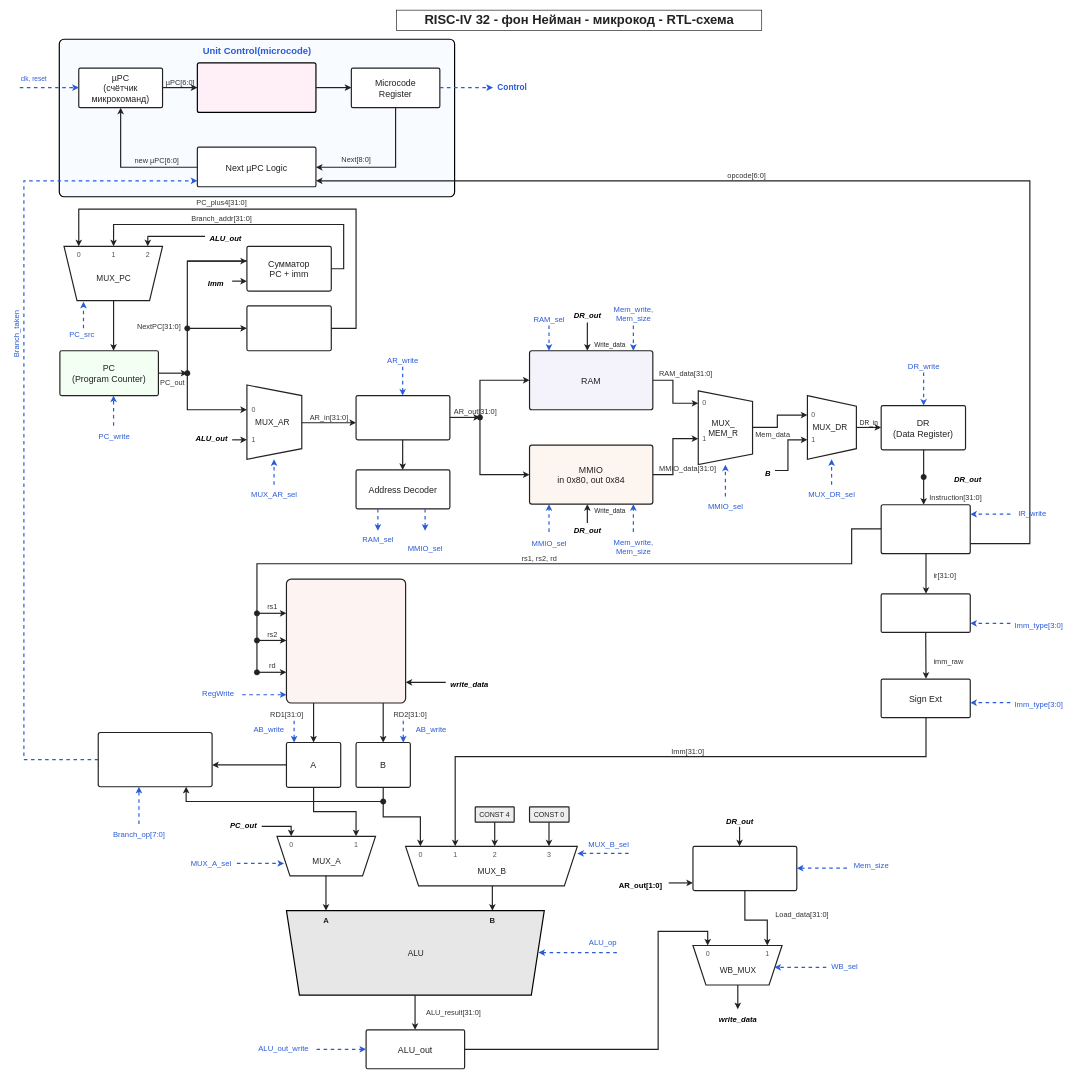
Image size: 1083x1080. Some labels were removed from this diagram. The shapes that lost their labels are listed below. From the top down, each one's box as (x1, y1, x2, y2) in pixels, then its label:
(196, 62, 316, 113): Control Store
(246, 305, 332, 351): Сумматор PC + 4
(355, 395, 450, 440): AR (Address Register)
(880, 504, 971, 554): IR (Instruction Register)
(880, 593, 971, 633): Imm Extract
(286, 578, 406, 703): RF Register File 32 × 32 бит
(97, 732, 212, 787): Branch Unit
(692, 845, 797, 891): Load Format
